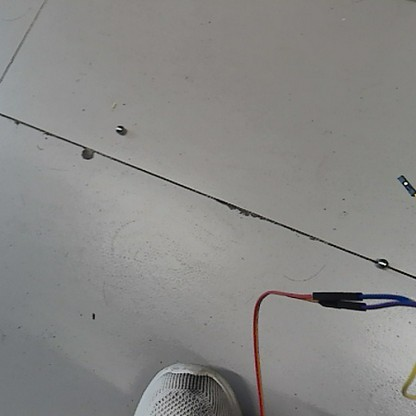ironball: (374, 254, 390, 272), (113, 121, 126, 137)
